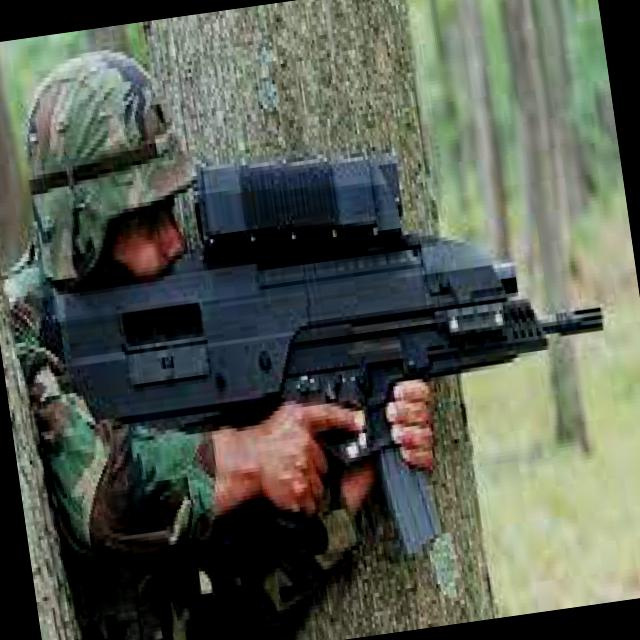long weapon: (177, 111, 632, 546)
